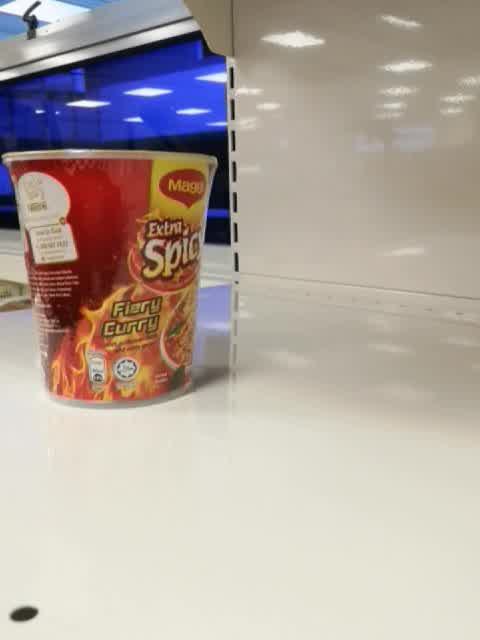maggi: (2, 150, 218, 411)
